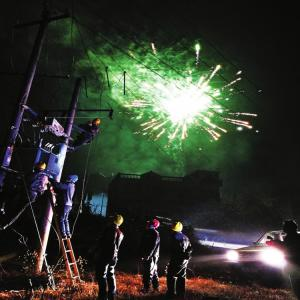blue: (66, 175, 79, 185)
red: (146, 219, 161, 231)
yellow: (105, 215, 123, 229), (171, 222, 184, 234), (35, 162, 48, 172), (93, 119, 102, 126)
